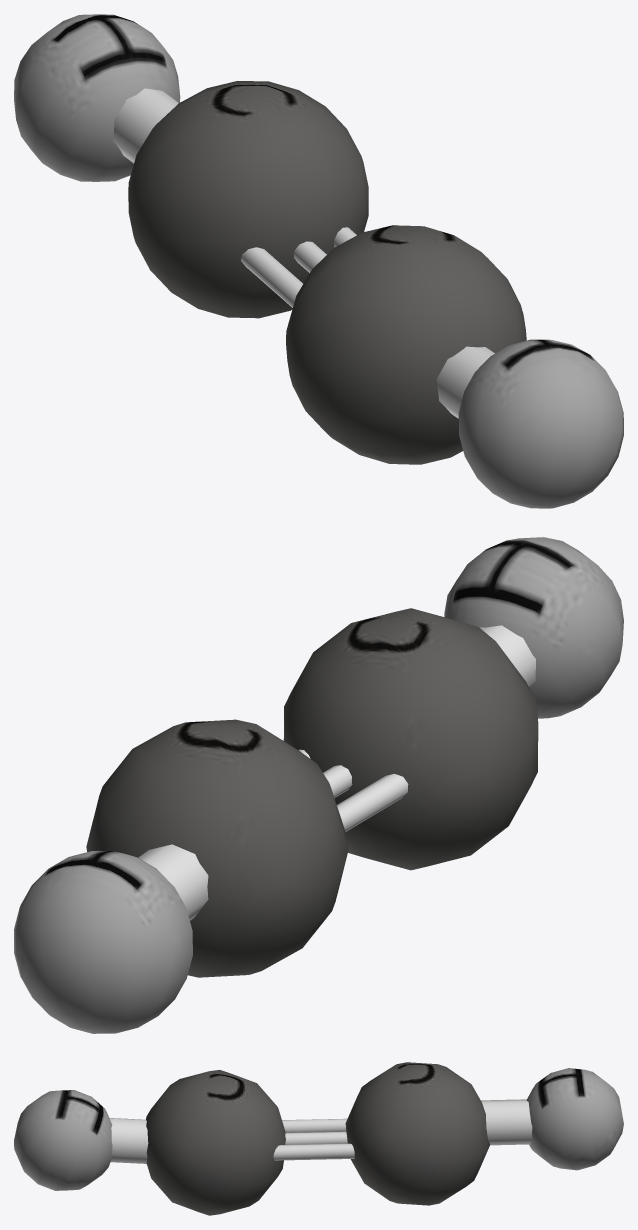
File: Ethyne.fbx
The picture shows the model from 3 angles, top to bottom: view 1: azimuth 30°, elevation 25°; view 2: azimuth 150°, elevation 25°; view 3: azimuth 270°, elevation 25°; orthographic projection. The views are drawn at different scales.
Visible parts, largest first — view 1: pCylinder14; view 2: pCylinder14; view 3: pCylinder14.
Part boxes in pixels (box(x1,y1,x2,y2)): pCylinder14: box(14, 14, 623, 508); pCylinder14: box(14, 537, 623, 1033); pCylinder14: box(14, 1062, 623, 1215).
Size of the model in its own units: 8.16 by 8.37 by 32.56.
Materials: 2 (1 with a texture image).
